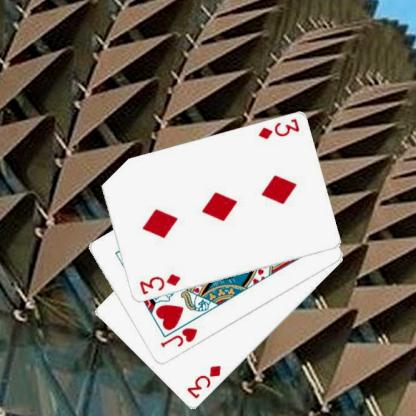3D: (184, 362, 222, 400), (136, 271, 182, 297), (255, 116, 300, 141)
JH: (158, 325, 198, 349)
